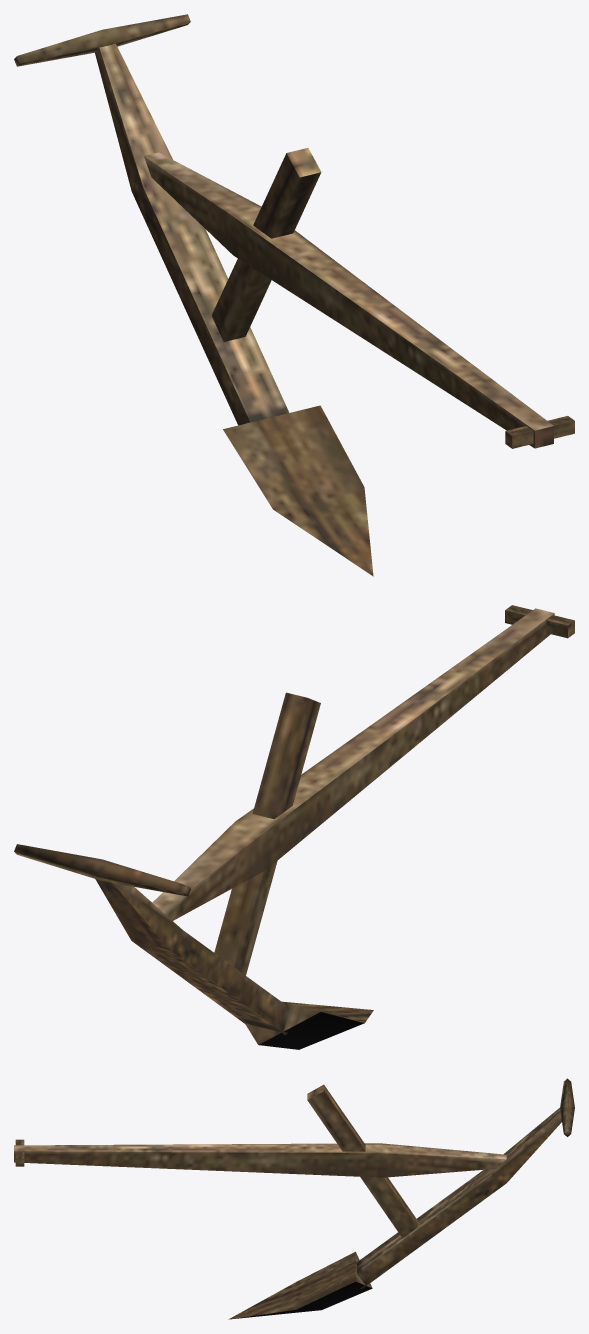
Rendered from b_general_obj_12.fbx.
The picture shows the model from 3 angles, top to bottom: view 1: azimuth 30°, elevation 25°; view 2: azimuth 150°, elevation 25°; view 3: azimuth 270°, elevation 25°; orthographic projection. The views are drawn at different scales.
Visible parts, largest first — view 1: Object08; view 2: Object08; view 3: Object08.
Part boxes in pixels (box(x1,y1,x2,y2)): Object08: box(14, 14, 574, 576); Object08: box(14, 605, 574, 1049); Object08: box(14, 1078, 574, 1319).
Bounding box in the file's own units: 0.6113 × 1.26 × 2.77.
